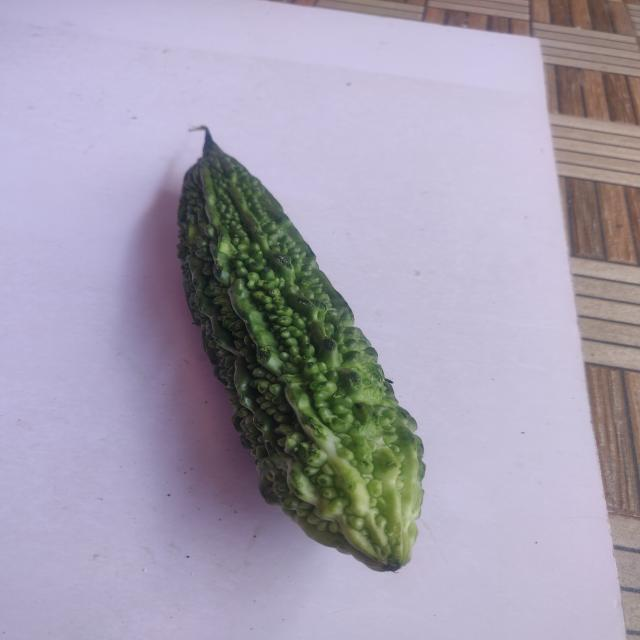Bitter Gourd: (152, 103, 459, 586)
